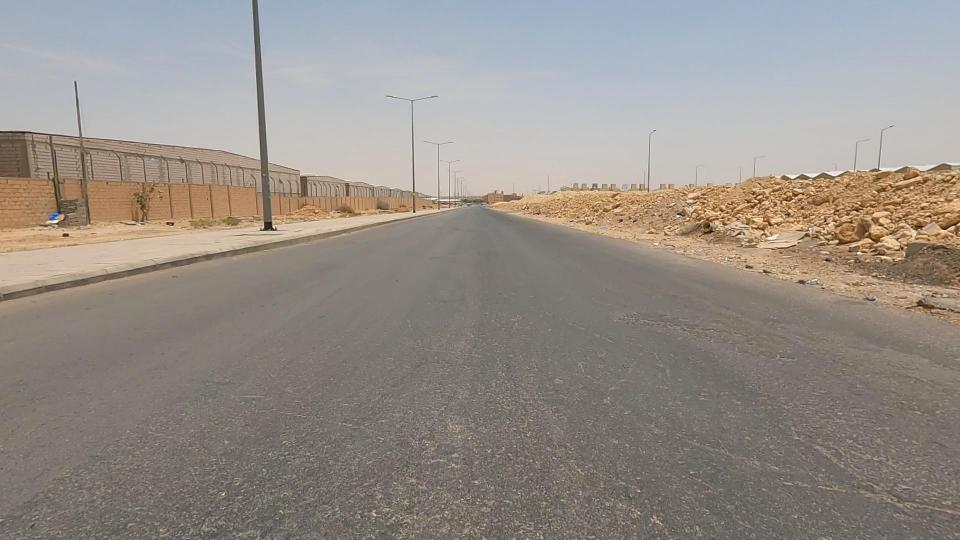GARBAGE: (705, 199, 836, 277), (21, 199, 91, 245), (568, 207, 643, 247)
SAND_ON_ROAD: (560, 157, 734, 264), (490, 177, 602, 242)
